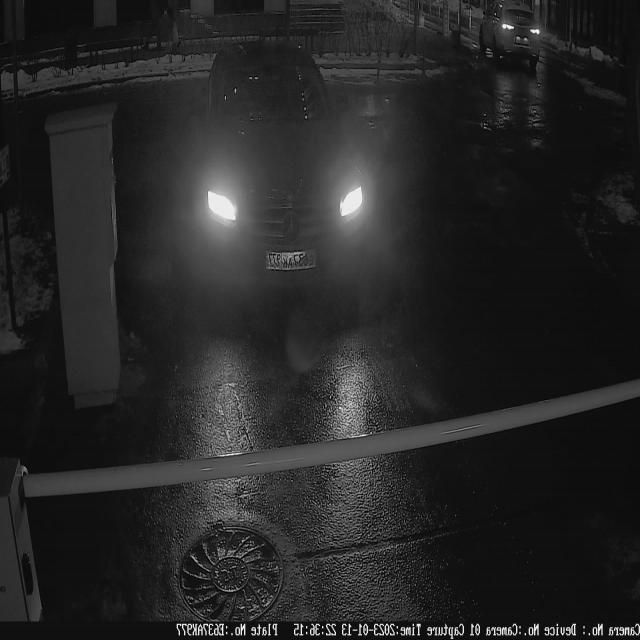car-plate-numbers: (264, 245, 321, 278)
